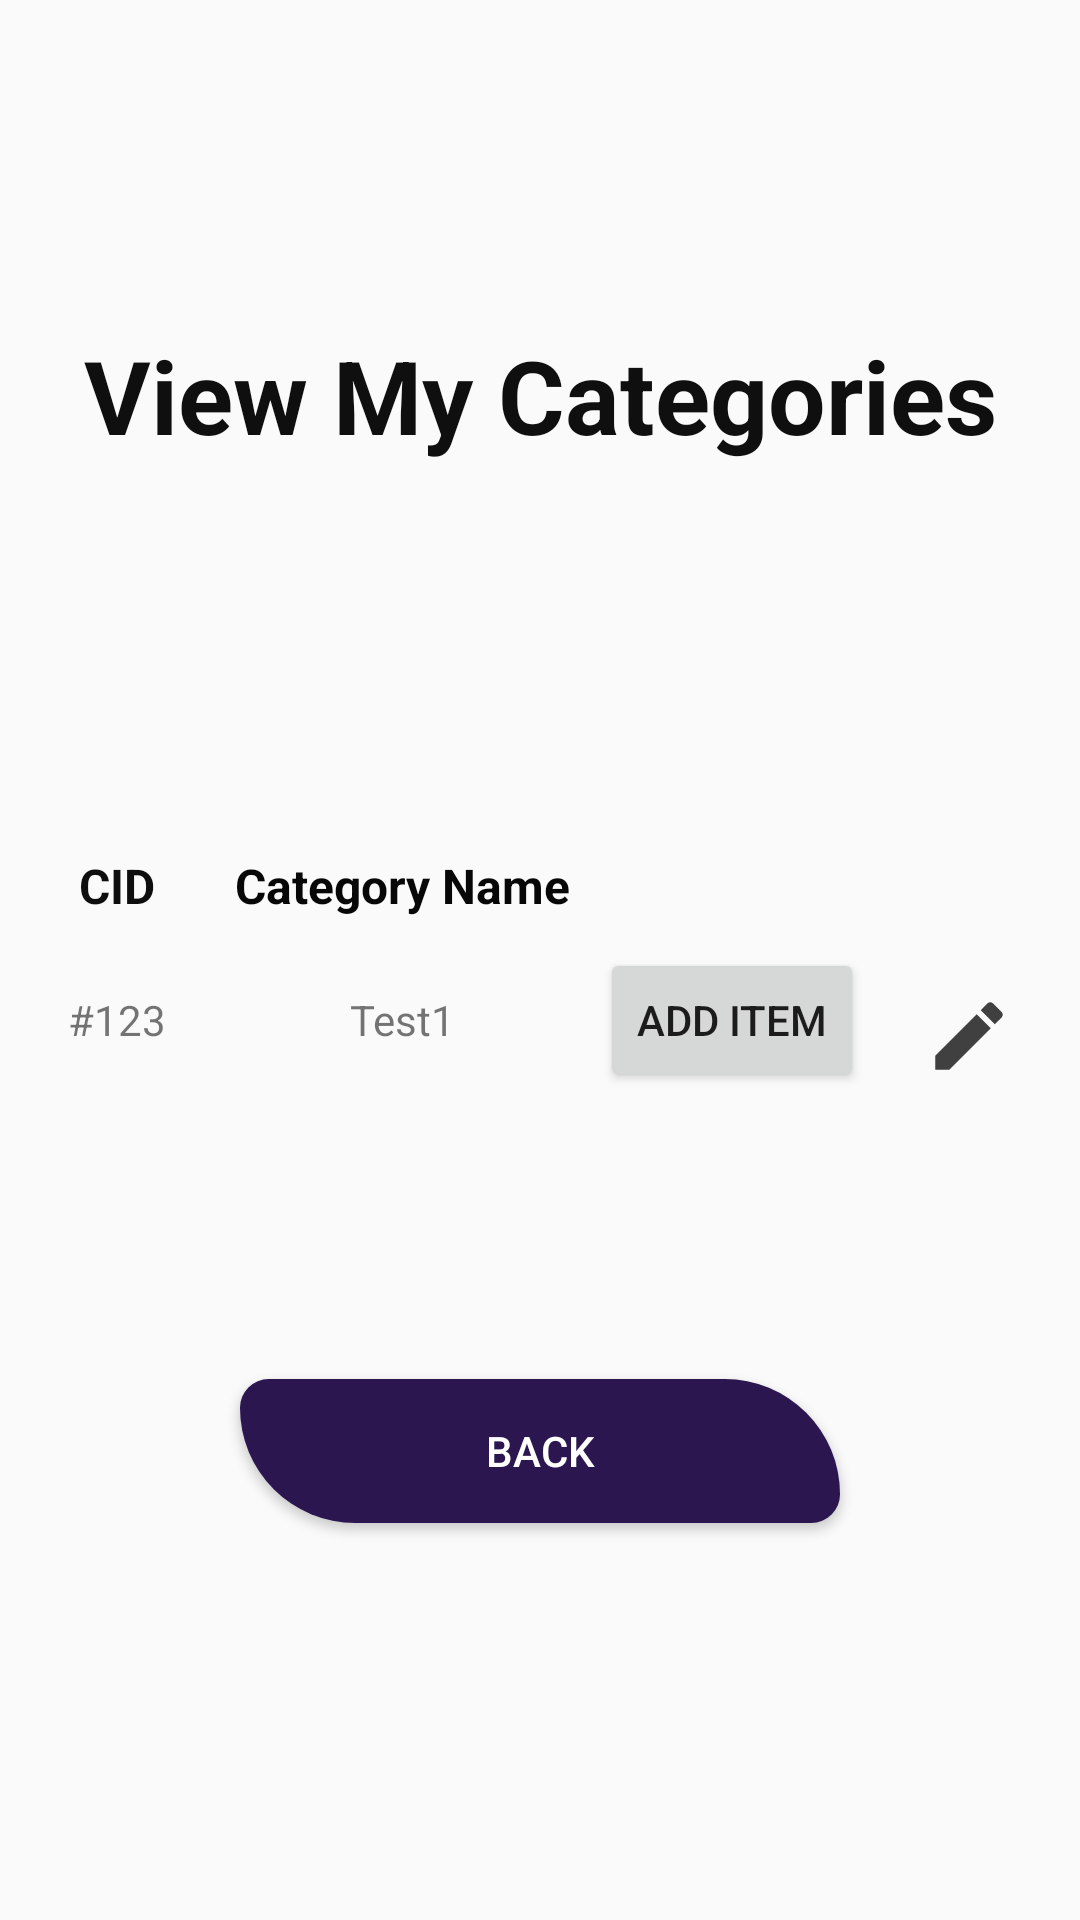

Screen size 1080px×1920px. Icon name, then its box in pixels as (x1, y1, x2, y2):
edit: (935, 1002, 1003, 1070)
